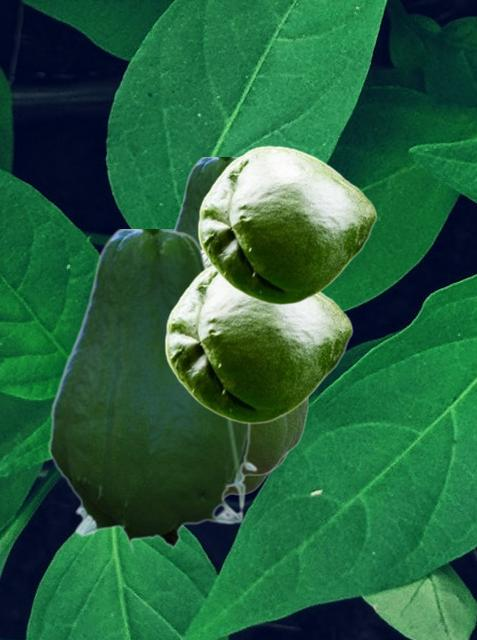sayote: (48, 229, 257, 553), (164, 264, 352, 423), (197, 145, 376, 304), (206, 259, 308, 477), (171, 157, 235, 239), (225, 455, 287, 498)
